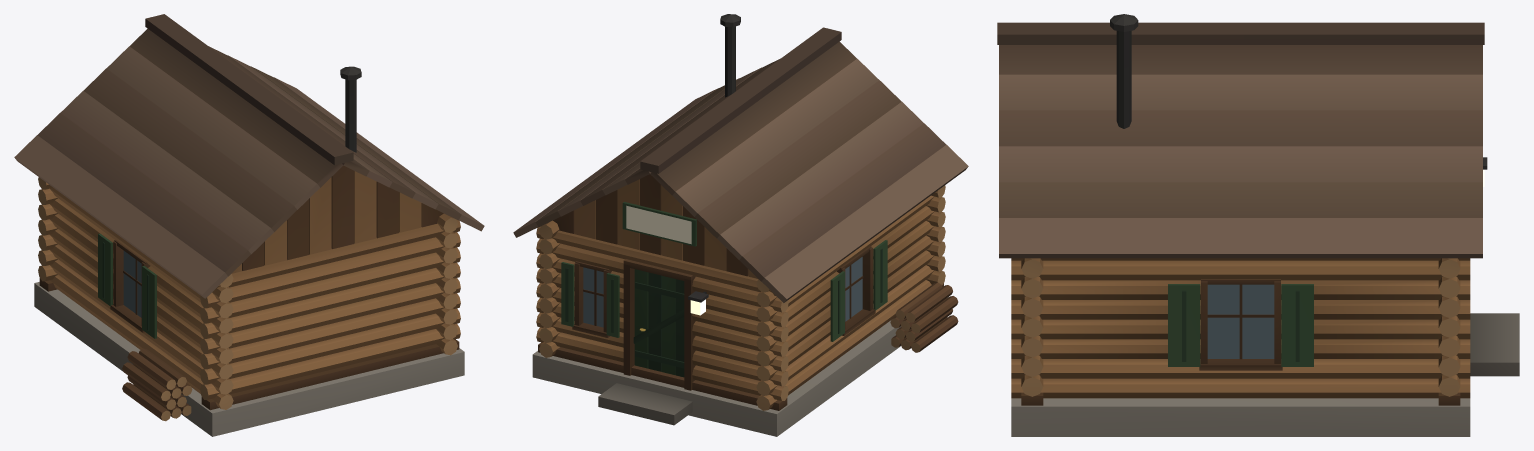
The model's file is camp_office.glb.
The picture shows the model from 3 angles, left to right: view 1: azimuth 30°, elevation 25°; view 2: azimuth 150°, elevation 25°; view 3: azimuth 270°, elevation 25°; orthographic projection. The views are drawn at different scales.
Visible parts, largest first — view 1: camp_office; view 2: camp_office, office_plate; view 3: camp_office.
Part boxes in pixels (left/top/right/bottom): camp_office: left=14, top=14, right=484, bottom=436; camp_office: left=513, top=14, right=968, bottom=436; office_plate: left=626, top=205, right=691, bottom=244; camp_office: left=997, top=14, right=1519, bottom=436.
Size of the model in its own units: 5.31 by 5 by 6.26.
